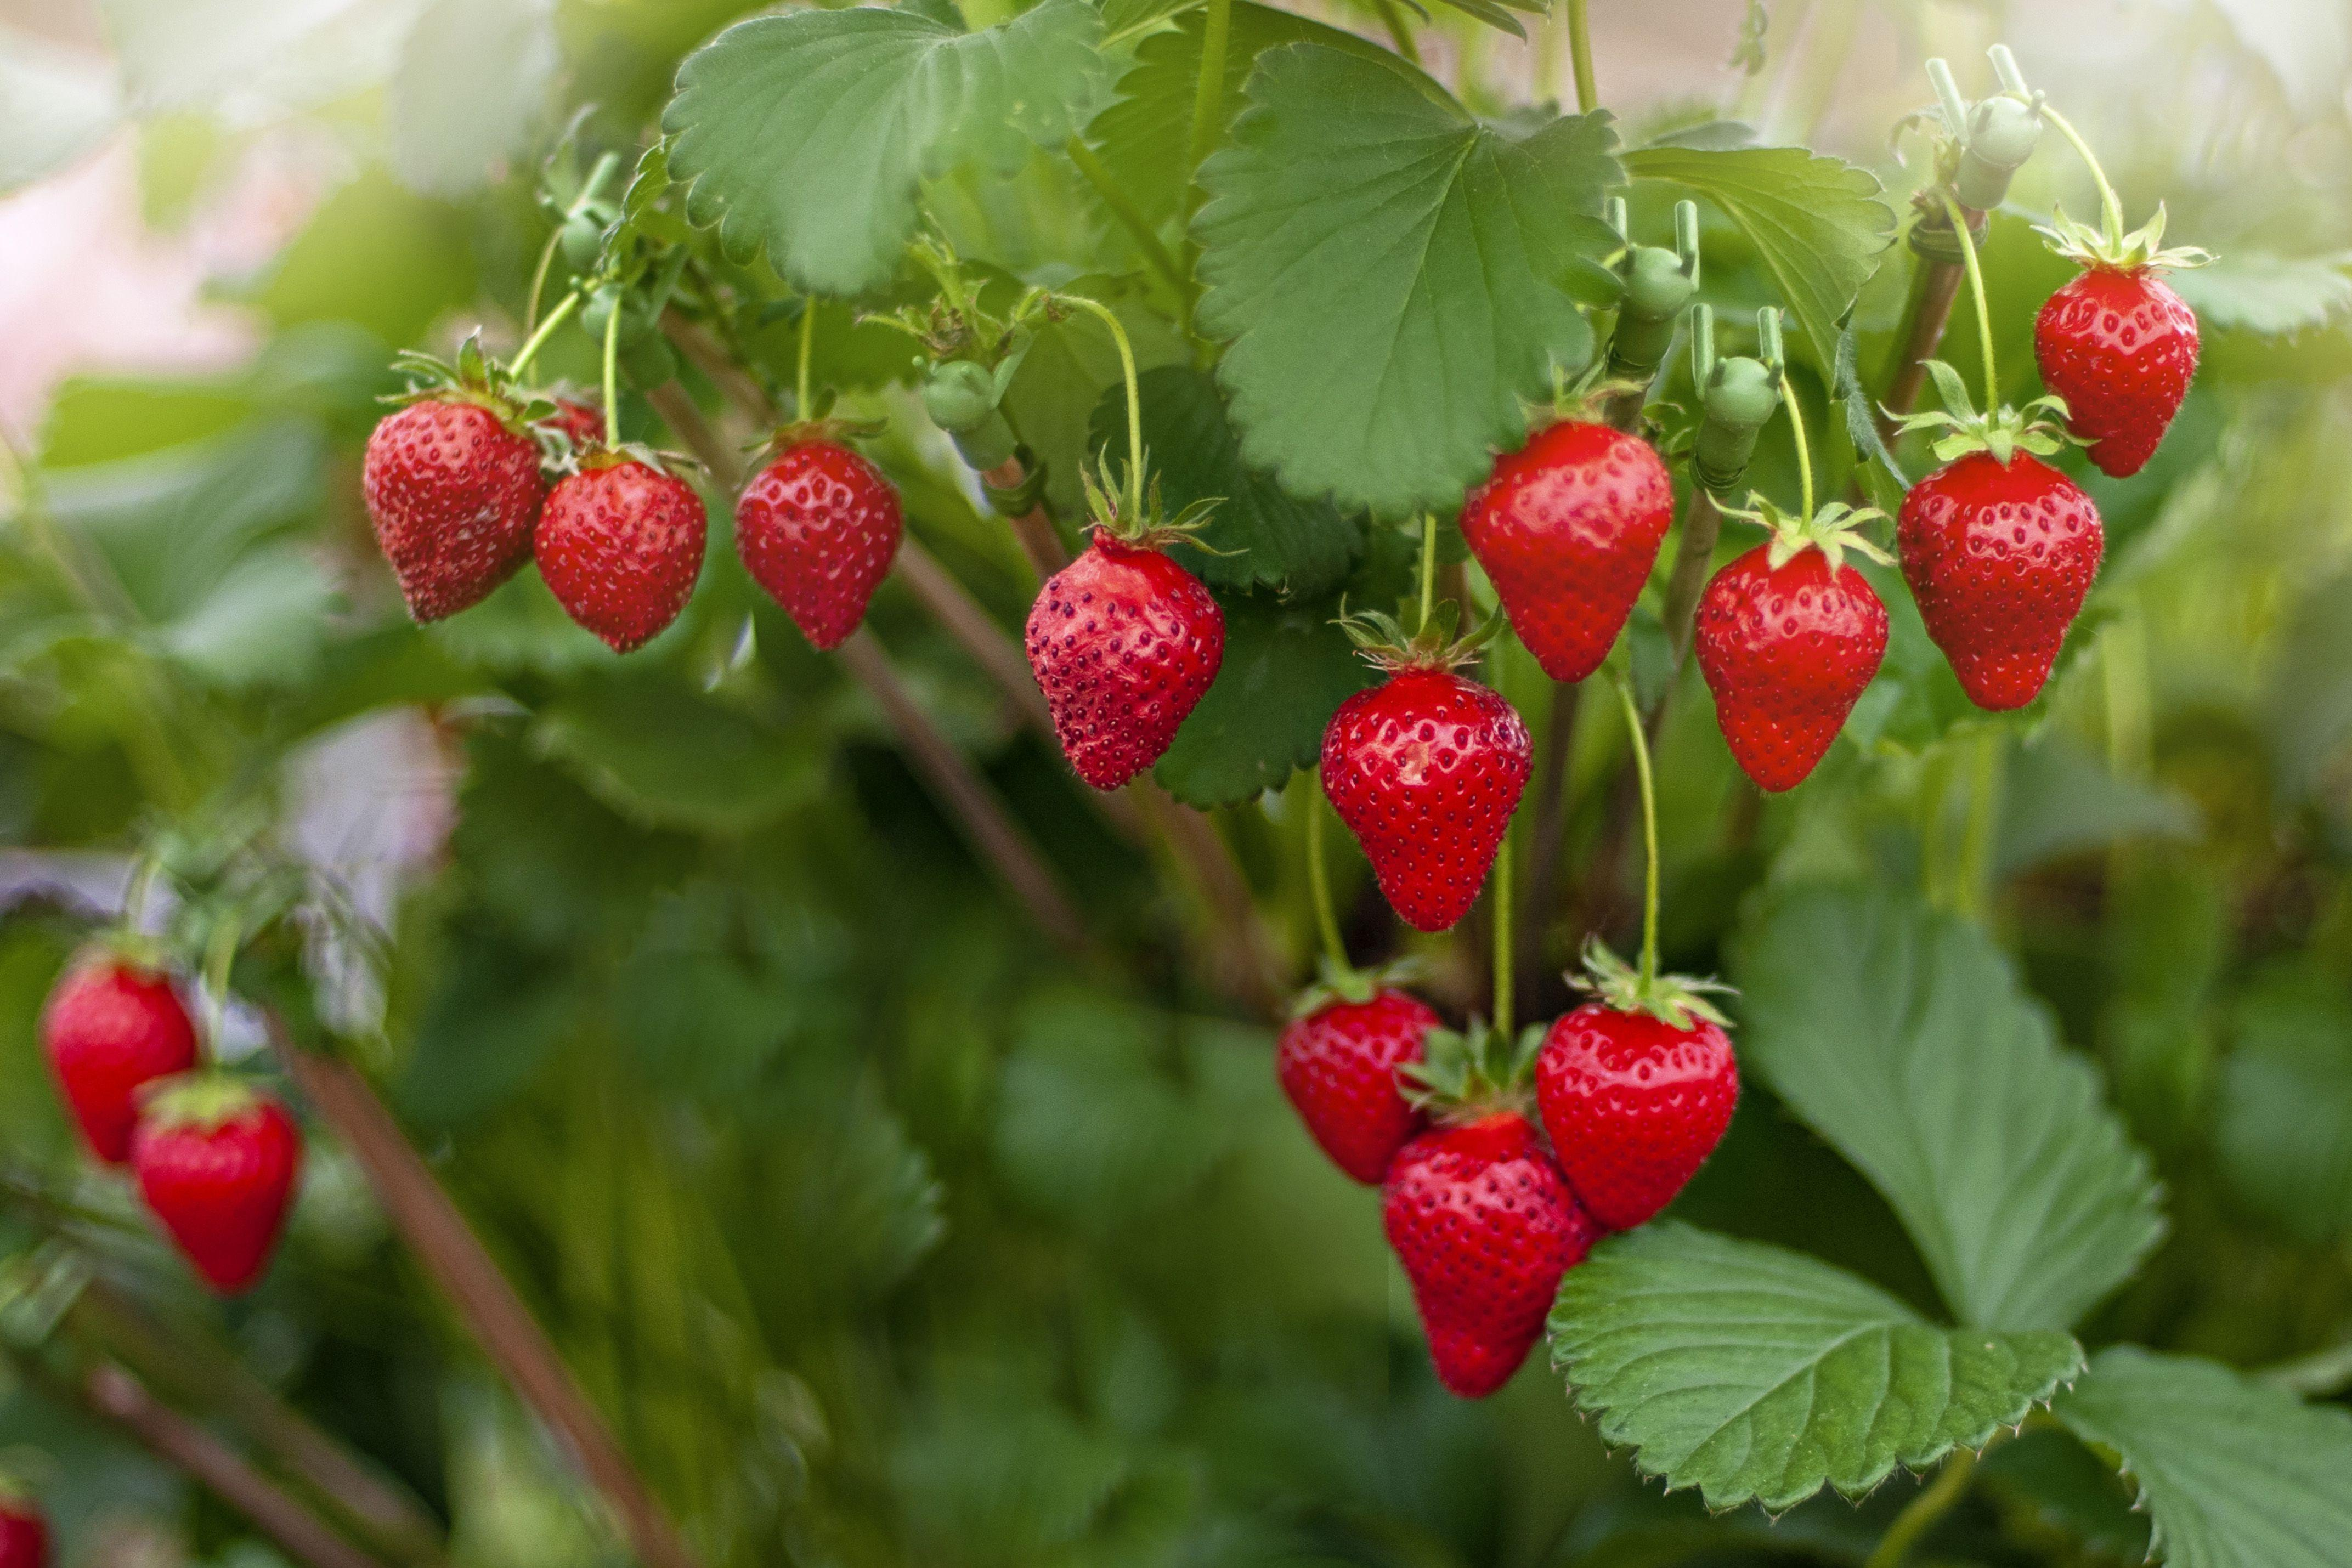strawberry: (1001, 444, 1272, 844), (1879, 361, 2123, 752), (1356, 1043, 1599, 1414), (1319, 576, 1540, 959), (1440, 361, 1683, 703), (1669, 486, 1906, 819), (2011, 182, 2245, 488), (1528, 928, 1755, 1241), (348, 329, 560, 654), (716, 390, 929, 665), (535, 429, 717, 674)
